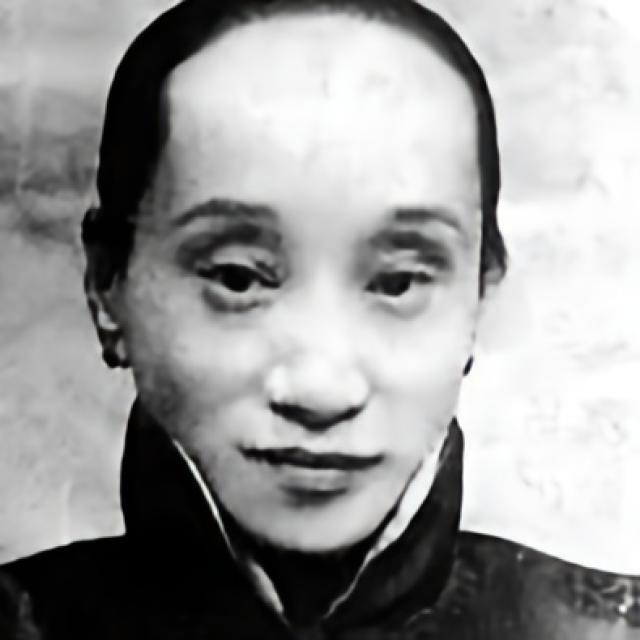content: (125, 11, 482, 556)
